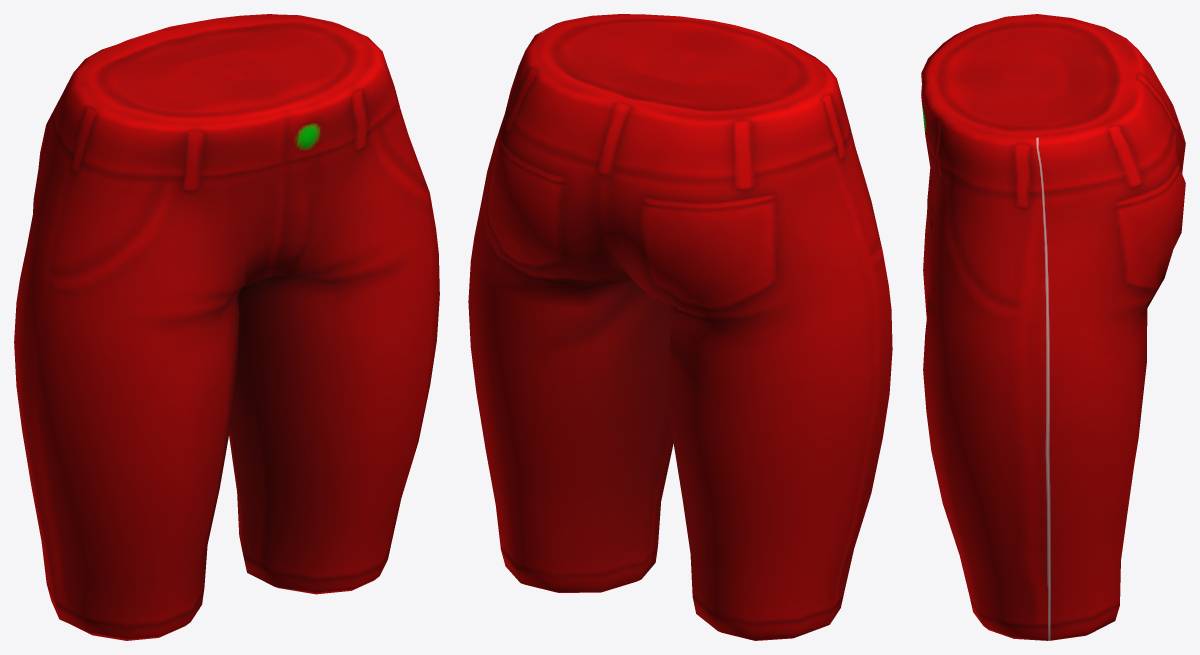
The model's file is Bottom_Shorts.obj.
The picture shows the model from 3 angles, left to right: view 1: azimuth 30°, elevation 25°; view 2: azimuth 150°, elevation 25°; view 3: azimuth 270°, elevation 25°; orthographic projection. The views are drawn at different scales.
Visible parts, largest first — view 1: Bottom_Shorts_0; view 2: Bottom_Shorts_0; view 3: Bottom_Shorts_0.
Part boxes in pixels (<box>): Bottom_Shorts_0: <box>14,14,439,640</box>; Bottom_Shorts_0: <box>468,14,892,640</box>; Bottom_Shorts_0: <box>921,14,1185,640</box>.
Size of the model in its own units: 0.3801 by 0.4858 by 0.2343.
1 material, 1 textured.
